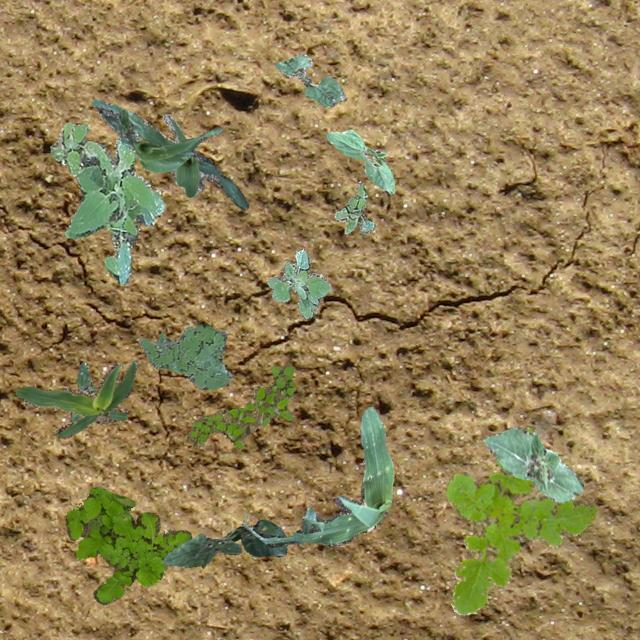crop: (240, 406, 392, 546), (90, 98, 248, 208), (14, 358, 138, 438), (98, 108, 222, 172), (482, 426, 582, 502), (160, 518, 286, 566), (326, 128, 394, 192), (274, 52, 344, 106)
weed: (444, 426, 594, 614), (50, 122, 164, 284), (64, 486, 190, 604), (185, 362, 294, 448), (138, 322, 232, 388), (266, 248, 330, 318), (334, 180, 374, 232), (70, 362, 96, 422)
